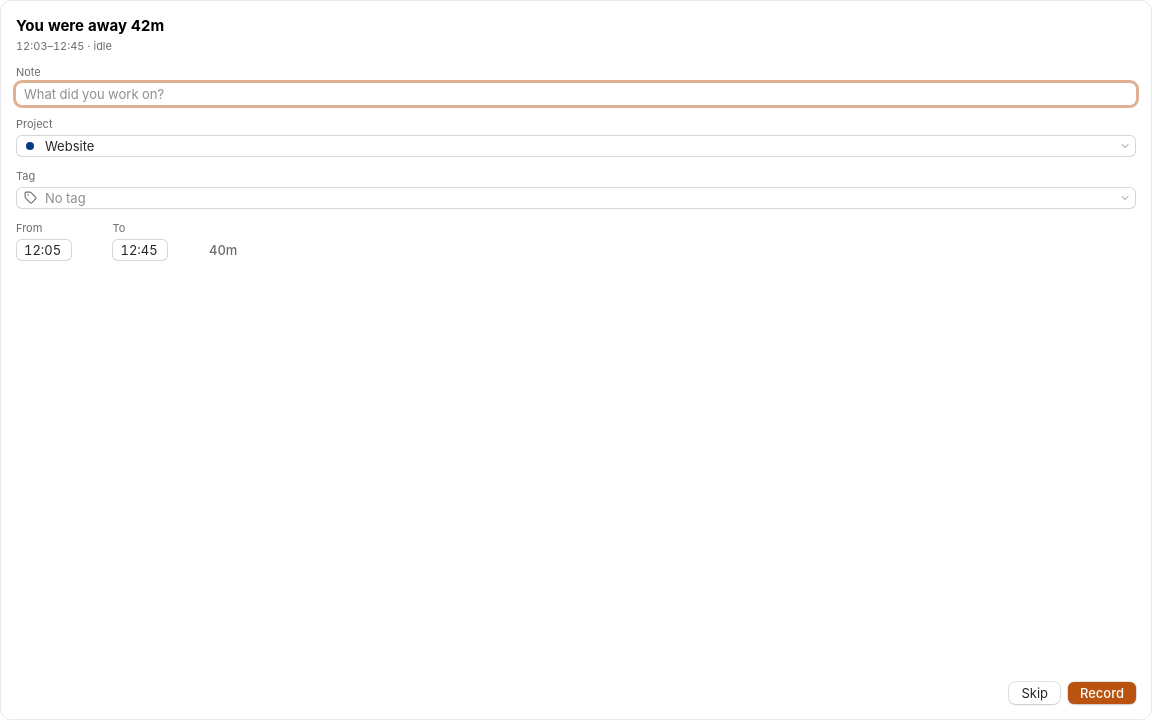
Test: AwayPrompt › errors › shows the recording in the way inline and keeps the form
Expected: the dropdown named "project" is shown, [45, 135, 1106, 157]
Type "lunch" into the field labelled "Note" at point(576, 94), box [16, 83, 1136, 105]
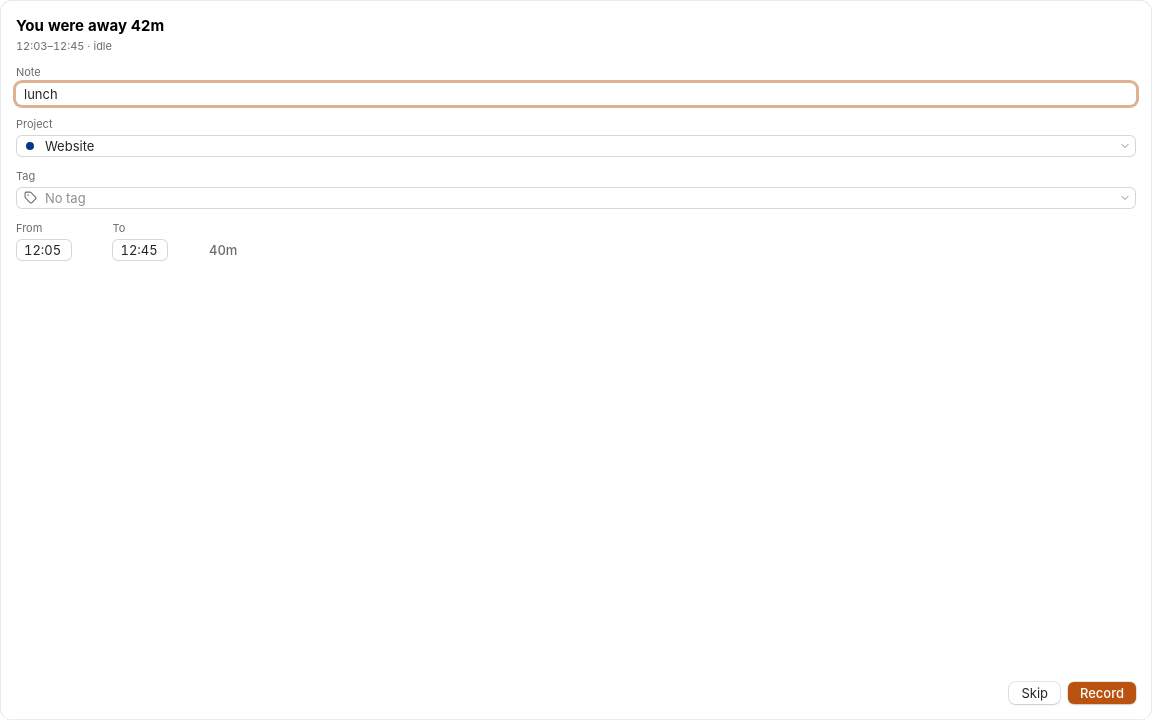
Click the button "Record" at point(1102, 693), box [1068, 682, 1136, 704]
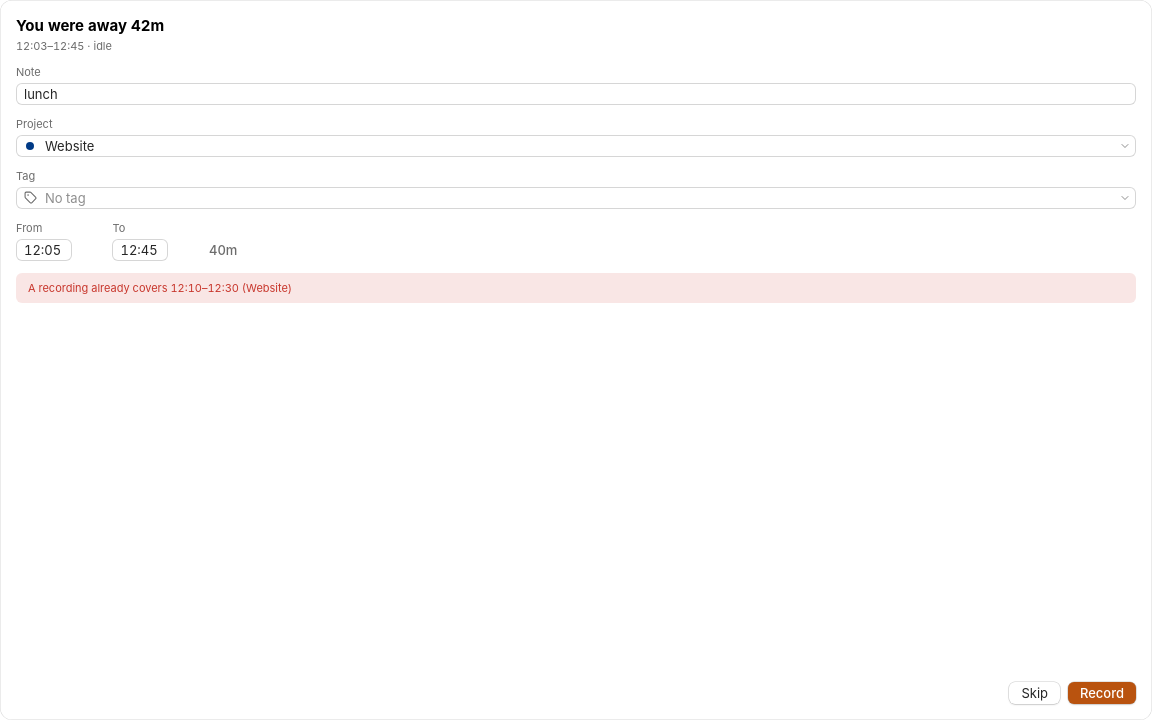
Result: the message reads "A recording already covers 12:10–12:30 (Website)" at [28, 281, 292, 295]
